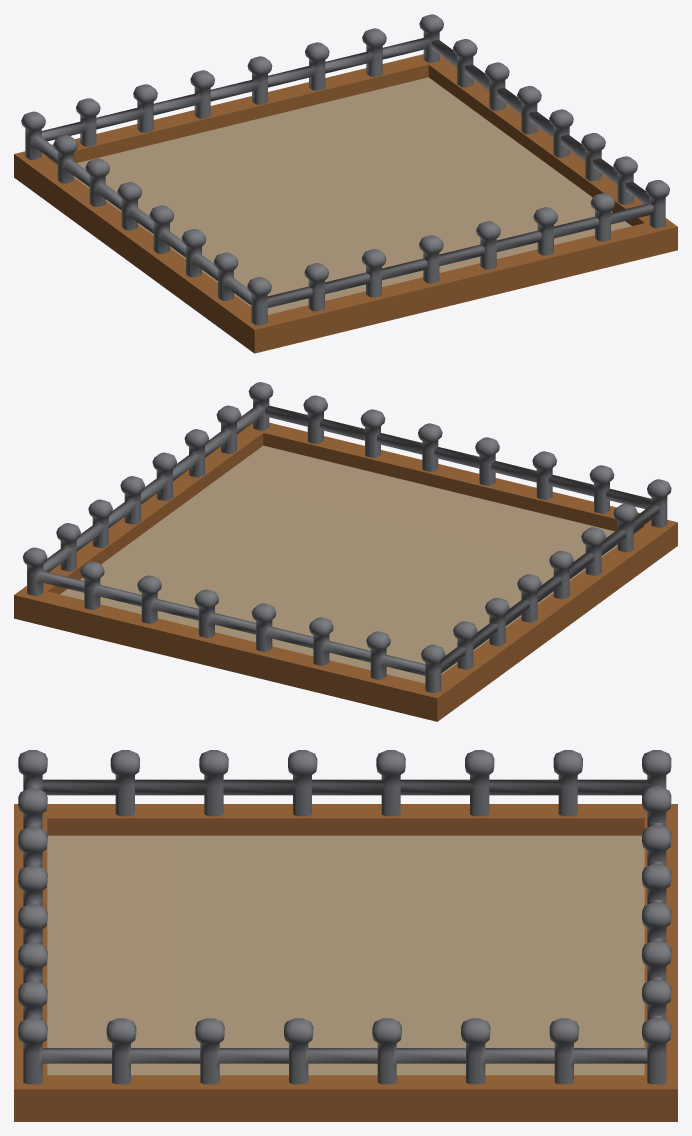
The model's file is Planter.fbx.
The picture shows the model from 3 angles, top to bottom: view 1: azimuth 30°, elevation 25°; view 2: azimuth 150°, elevation 25°; view 3: azimuth 270°, elevation 25°; orthographic projection. The views are drawn at different scales.
Visible parts, largest first — view 1: Planter; view 2: Planter; view 3: Planter.
Boxes of the visible parts, x1,y1,x2,y2 form: Planter: (14, 14, 677, 353); Planter: (14, 382, 677, 721); Planter: (14, 750, 677, 1121).
Bounding box in the file's own units: 261 × 38.99 × 257.
